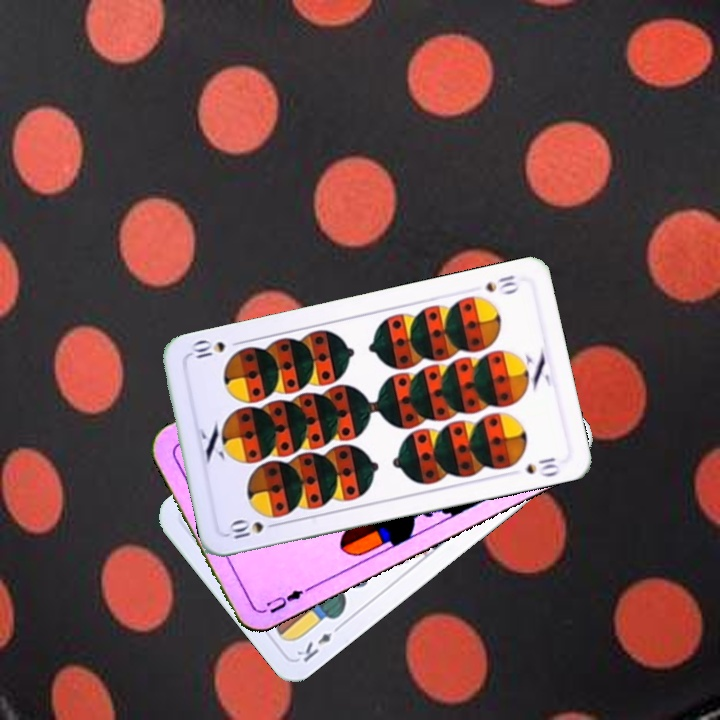EK: (292, 619, 345, 665)
EU: (262, 583, 313, 616)
S10: (224, 516, 283, 543), (481, 271, 522, 296)
